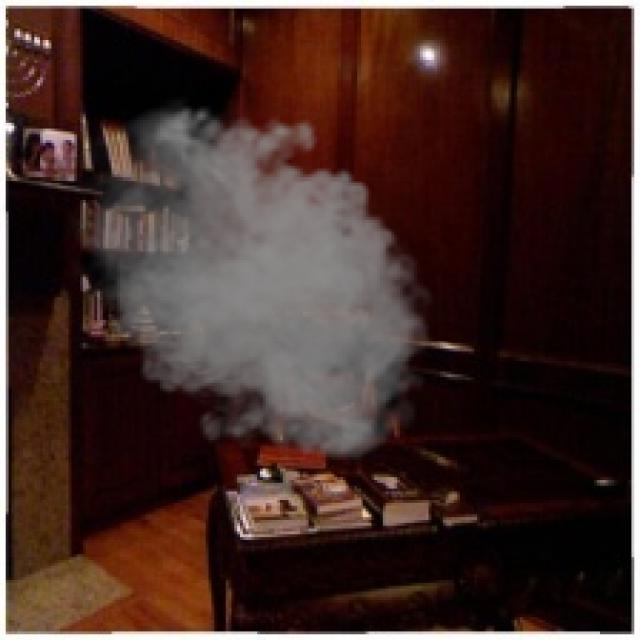smoke: (63, 94, 440, 466)
